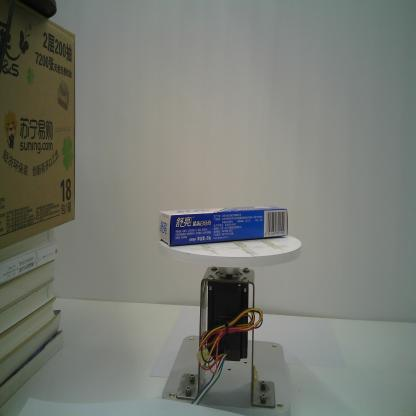Personal Hygiene: (157, 201, 288, 254)
